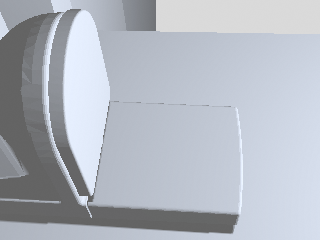lid_1: (49, 10, 109, 195)
